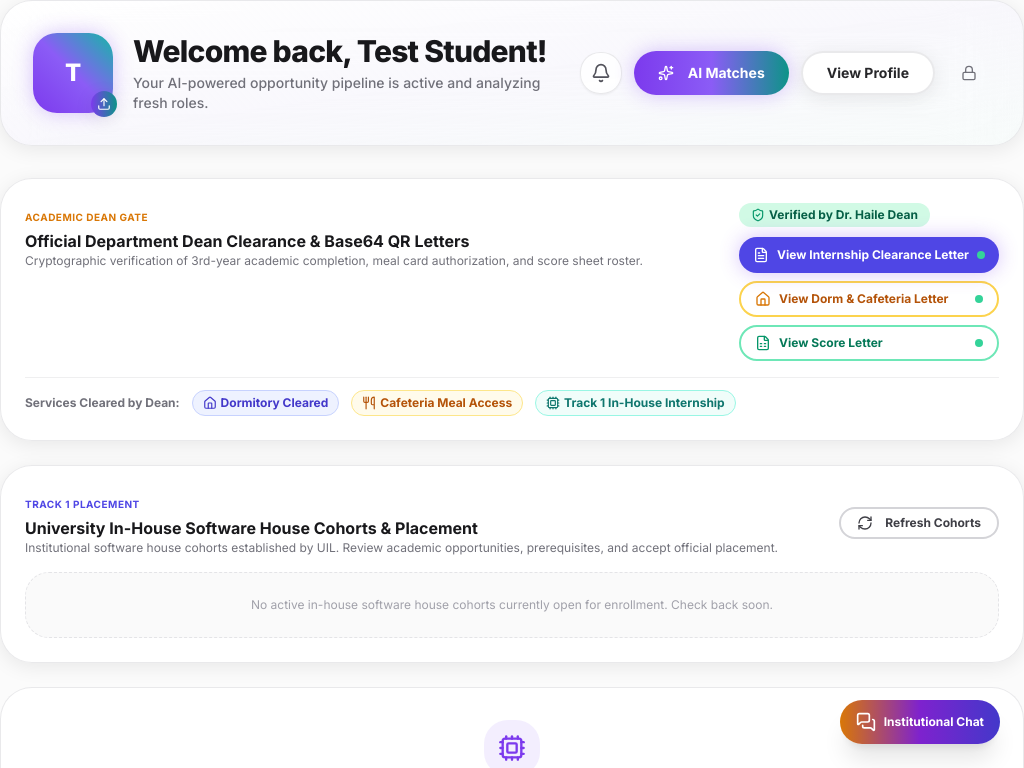
Test case: StudentDashboard Track 1 Letter Buttons & Selective Forwarding › opening View Score Letter shows Forward to UIL at bottom of score roster modal
Click the button "View Score Letter" at (869, 343), box [739,325,999,361]
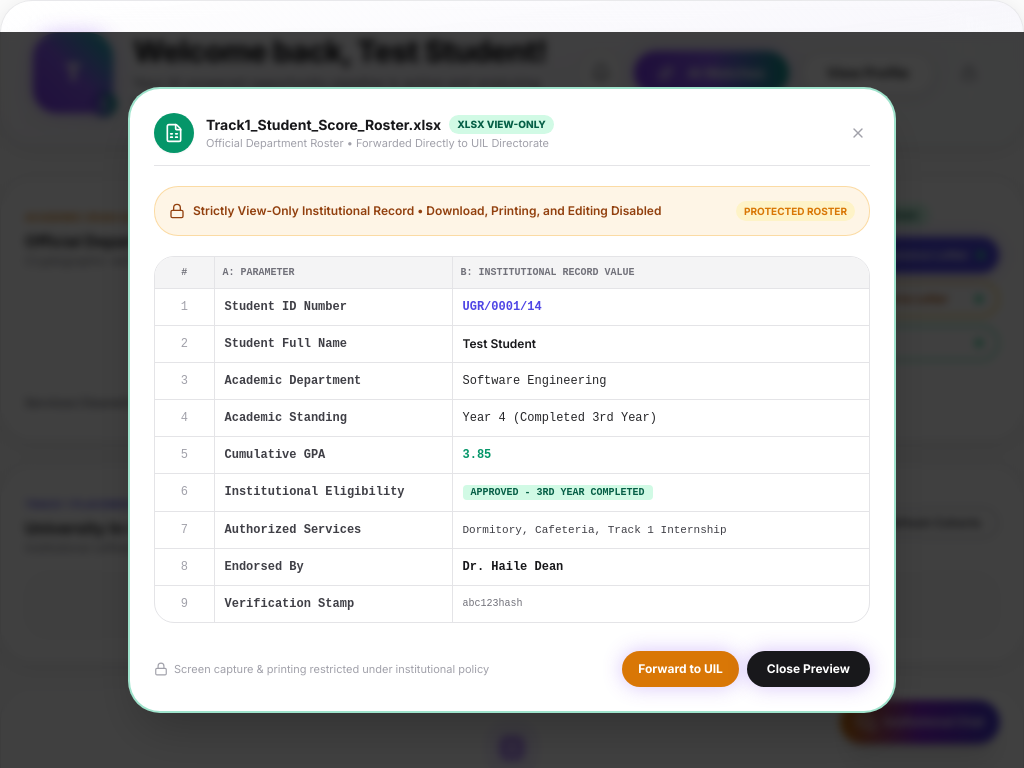
Check: the heading "Track1_Student_Score_Roster.xlsx" is shown, box [206,115,441,135]
Check: the button "Forward to UIL" is shown, box [622,651,739,687]
